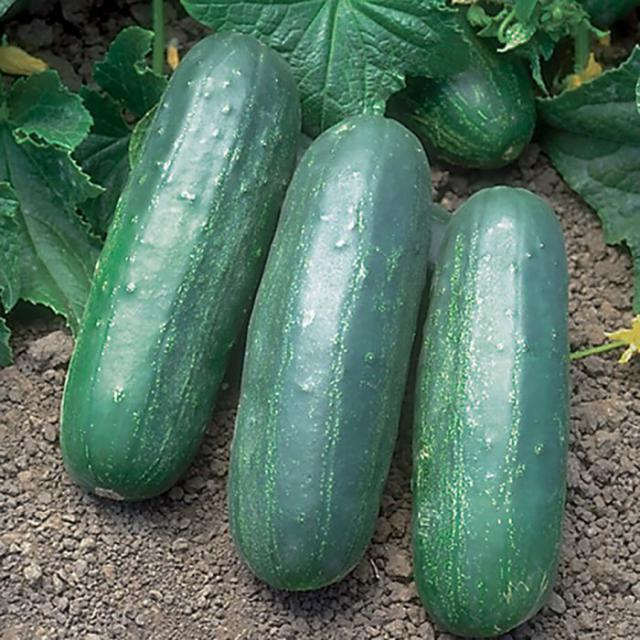cucumber: (56, 26, 298, 639), (226, 114, 434, 596), (417, 184, 579, 639)
